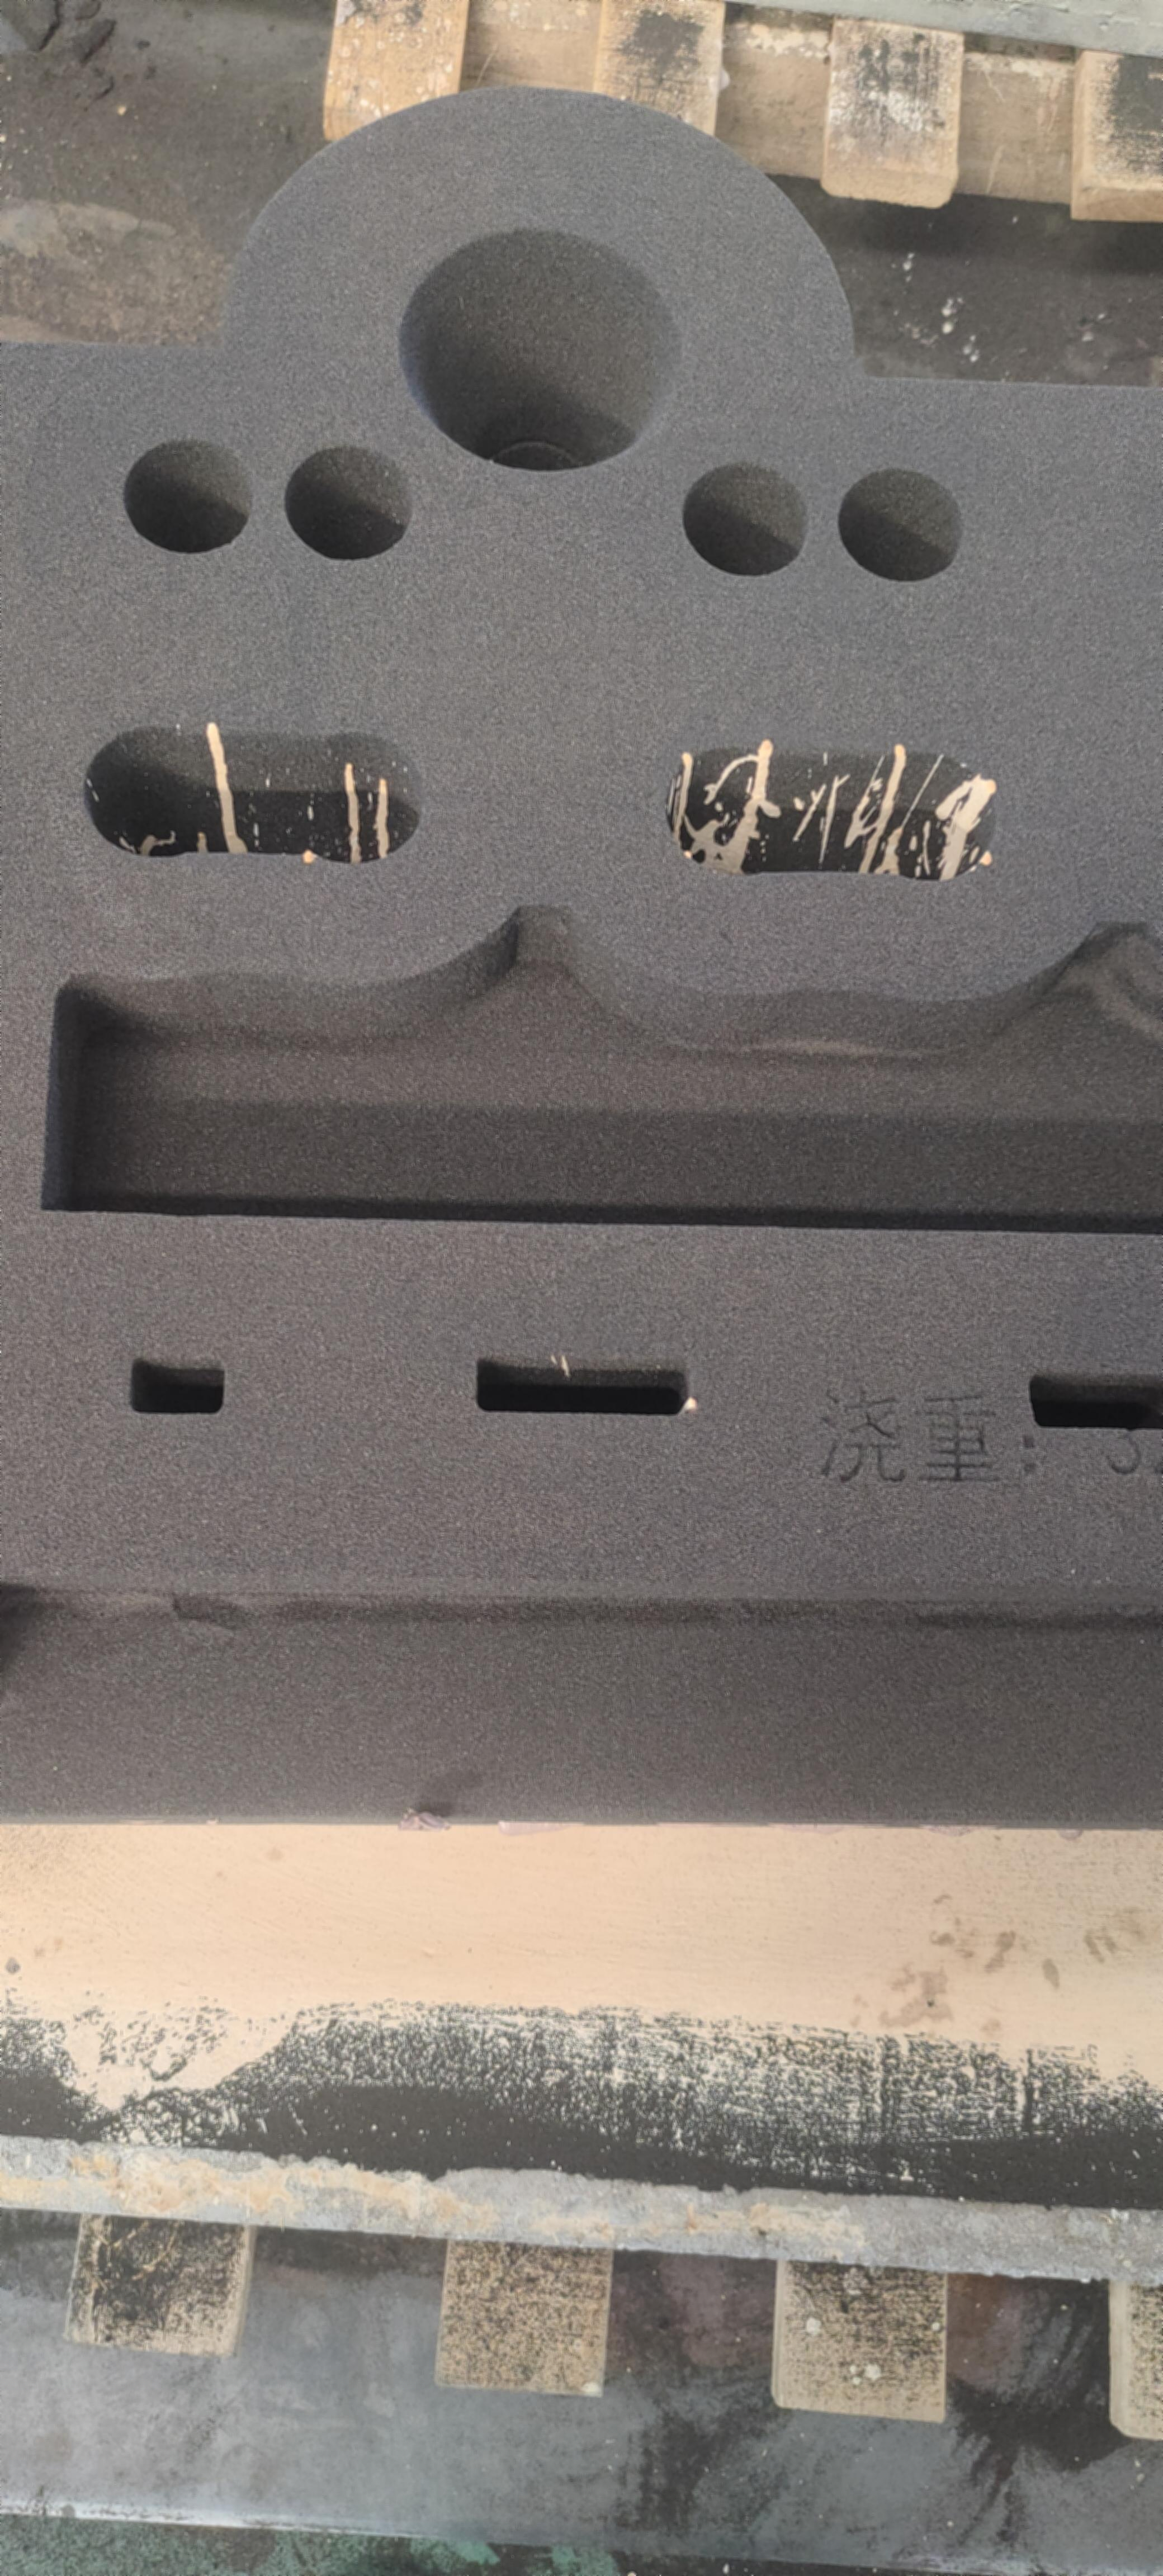pouring hole: (401, 233, 672, 471)
